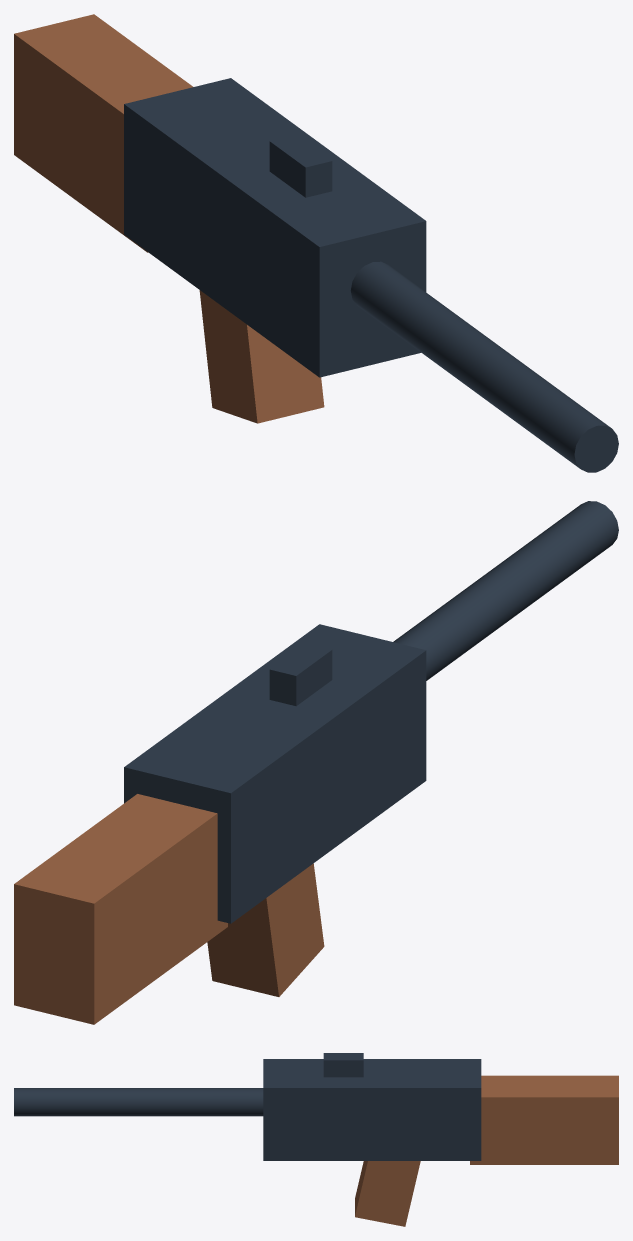
Rendered from test_weapon.glb.
3 views of the same model, one above another, from view 1: azimuth 30°, elevation 25°; view 2: azimuth 150°, elevation 25°; view 3: azimuth 270°, elevation 25° (orthographic). The views are drawn at different scales.
Parts seen in each view (by area): view 1: receiver, stock, barrel, grip, sight; view 2: receiver, stock, barrel, grip, sight; view 3: receiver, stock, barrel, grip, sight.
Boxes of the visible parts, bbox=[...] form: receiver: bbox=[124, 78, 426, 377]; stock: bbox=[14, 14, 192, 252]; barrel: bbox=[350, 261, 618, 472]; grip: bbox=[199, 290, 324, 423]; sight: bbox=[269, 134, 332, 197]; receiver: bbox=[124, 624, 426, 923]; stock: bbox=[14, 794, 227, 1024]; barrel: bbox=[393, 501, 618, 680]; grip: bbox=[207, 863, 324, 996]; sight: bbox=[269, 643, 332, 706]; receiver: bbox=[263, 1059, 481, 1160]; stock: bbox=[470, 1075, 618, 1164]; barrel: bbox=[14, 1088, 263, 1116]; grip: bbox=[355, 1161, 420, 1226]; sight: bbox=[323, 1053, 363, 1077].
Bounding box in the file's own units: 0.12 × 0.3101 × 1.05.
